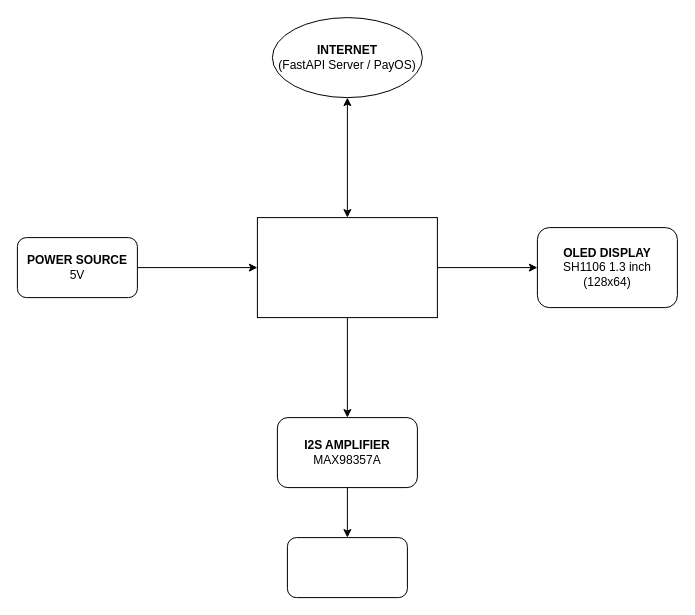
Some shapes in this 695 by 615 pixel diagram are drawn without their labels. Each missing label, with the centre of its shape:
MAIN CONTROLLER ESP32 (Dual-Core): the point at 346,267
SPEAKER 3W: the point at 346,567
